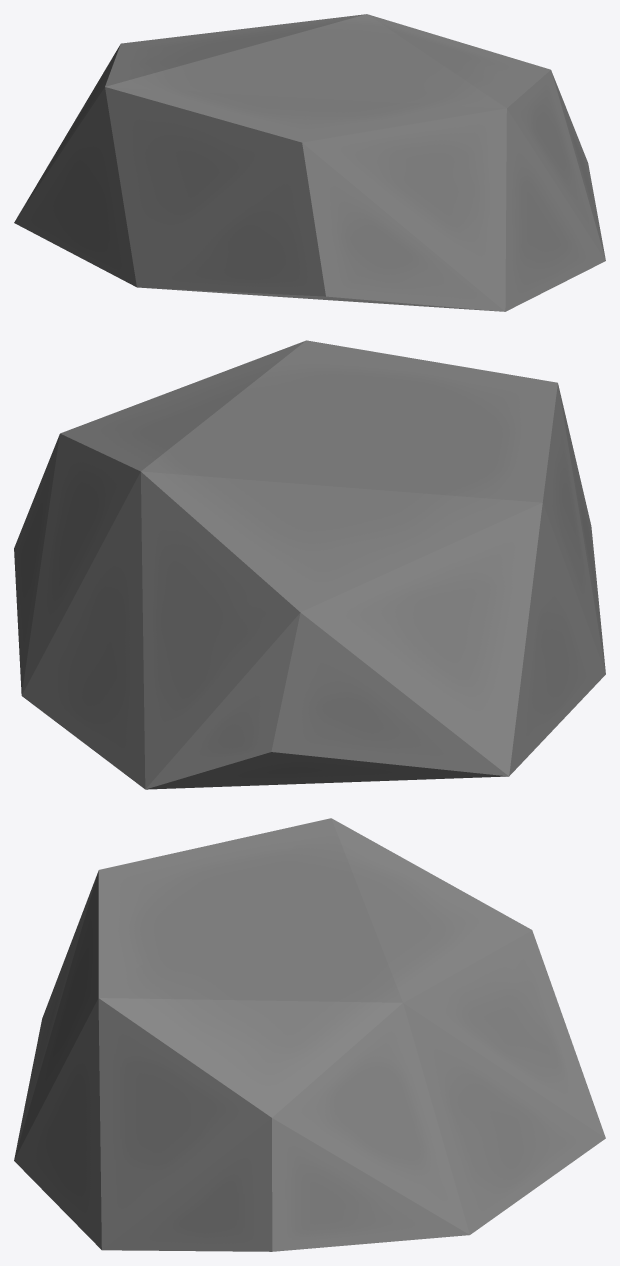
File: Flattenstone3.fbx
3 renders of one model, top to bottom at view 1: azimuth 30°, elevation 25°; view 2: azimuth 150°, elevation 25°; view 3: azimuth 270°, elevation 25°, orthographic. The views are drawn at different scales.
Visible parts, largest first — view 1: GeoSphere001; view 2: GeoSphere001; view 3: GeoSphere001.
Part boxes in pixels (x1,y1,x2,y2): GeoSphere001: (14, 14, 605, 311); GeoSphere001: (14, 340, 605, 789); GeoSphere001: (14, 818, 605, 1251).
Bounding box in the file's own units: 9.21 × 3.59 × 8.71.
Materials: 1 (1 with a texture image).
